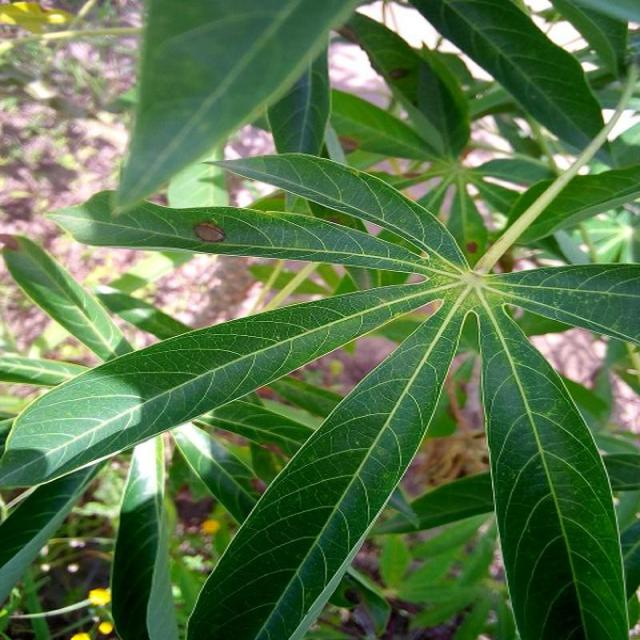cassava leaf: (2, 1, 640, 637), (184, 286, 473, 638), (112, 0, 362, 217), (477, 293, 630, 638)
